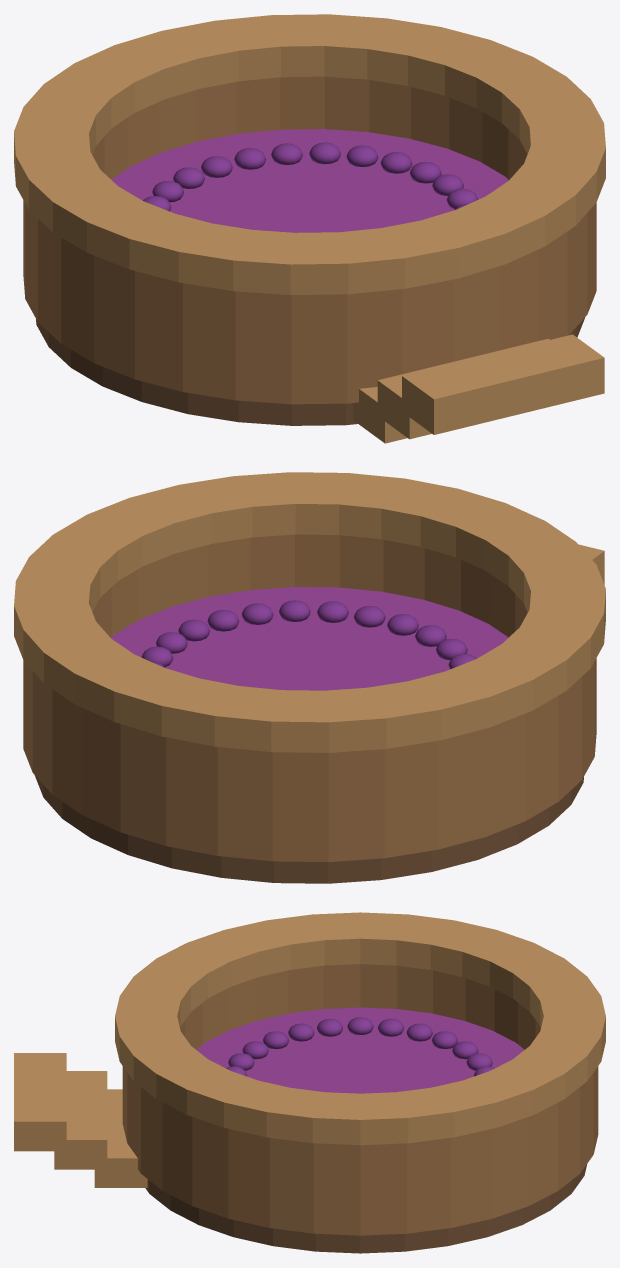
The model's file is stomp_vat.glb.
The picture shows the model from 3 angles, top to bottom: view 1: azimuth 30°, elevation 25°; view 2: azimuth 150°, elevation 25°; view 3: azimuth 270°, elevation 25°; orthographic projection. The views are drawn at different scales.
Visible parts, largest first — view 1: Vat top rim, Vat wooden wall, Crushed grapes surface, Vat step.002, Vat base, Vat step.001, Vat step, Visible crushed grape.007; view 2: Vat wooden wall, Vat top rim, Crushed grapes surface, Vat base, Visible crushed grape.021, Visible crushed grape.019, Visible crushed grape.022, Visible crushed grape.023, Visible crushed grape.020, Visible crushed grape.024, Visible crushed grape.018; view 3: Vat wooden wall, Vat top rim, Crushed grapes surface, Vat base, Vat step.002, Vat step.001, Vat step.
Boxes of the visible parts, left/top/right/bottom form: Vat top rim: left=14, top=14, right=605, bottom=294; Vat wooden wall: left=23, top=76, right=596, bottom=404; Crushed grapes surface: left=111, top=129, right=508, bottom=232; Vat step.002: left=402, top=334, right=604, bottom=434; Vat base: left=36, top=318, right=584, bottom=425; Vat step.001: left=377, top=338, right=549, bottom=439; Vat step: left=353, top=387, right=407, bottom=443; Visible crushed grape.007: left=201, top=156, right=232, bottom=177; Vat wooden wall: left=23, top=534, right=596, bottom=862; Vat top rim: left=14, top=472, right=605, bottom=752; Crushed grapes surface: left=111, top=587, right=508, bottom=690; Vat base: left=34, top=775, right=583, bottom=883; Visible crushed grape.021: left=317, top=601, right=348, bottom=622; Visible crushed grape.019: left=387, top=614, right=418, bottom=635; Visible crushed grape.022: left=279, top=600, right=310, bottom=621; Visible crushed grape.023: left=241, top=603, right=273, bottom=624; Visible crushed grape.020: left=354, top=606, right=385, bottom=627; Visible crushed grape.024: left=207, top=610, right=239, bottom=631; Visible crushed grape.018: left=415, top=625, right=446, bottom=646; Vat wooden wall: left=122, top=964, right=598, bottom=1235; Vat top rim: left=115, top=912, right=605, bottom=1145; Crushed grapes surface: left=196, top=1007, right=524, bottom=1093; Vat base: left=145, top=1164, right=586, bottom=1253; Vat step.002: left=14, top=1053, right=66, bottom=1151; Vat step.001: left=54, top=1071, right=107, bottom=1169; Vat step: left=94, top=1089, right=147, bottom=1187.
Bounding box in the file's own units: 3.16 × 1 × 3.81.
